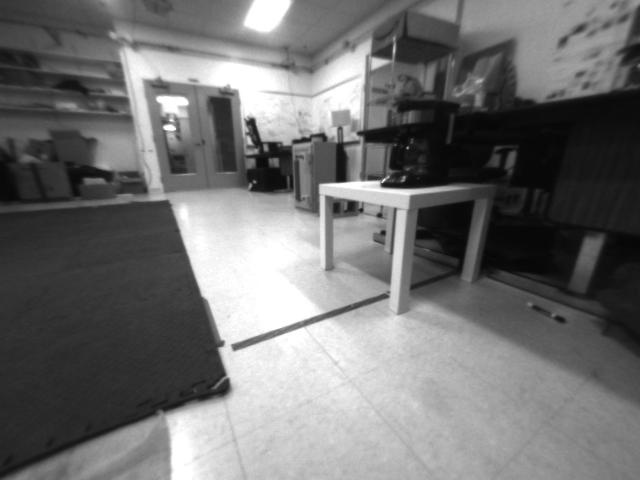coffee_pot: (380, 96, 457, 190)
